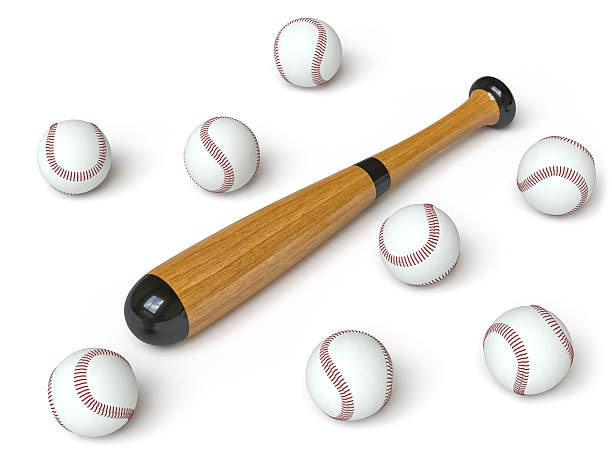bita: (124, 82, 513, 340)
